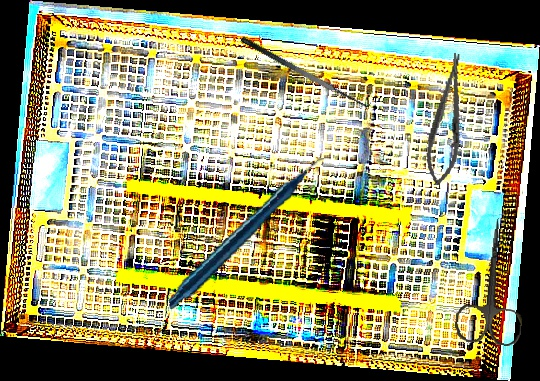Handpiece: (152, 156, 349, 310)
Iris Scissors: (453, 214, 533, 348)
Needle Holder: (420, 51, 475, 188)
Spatula Surgical: (239, 25, 375, 115)
